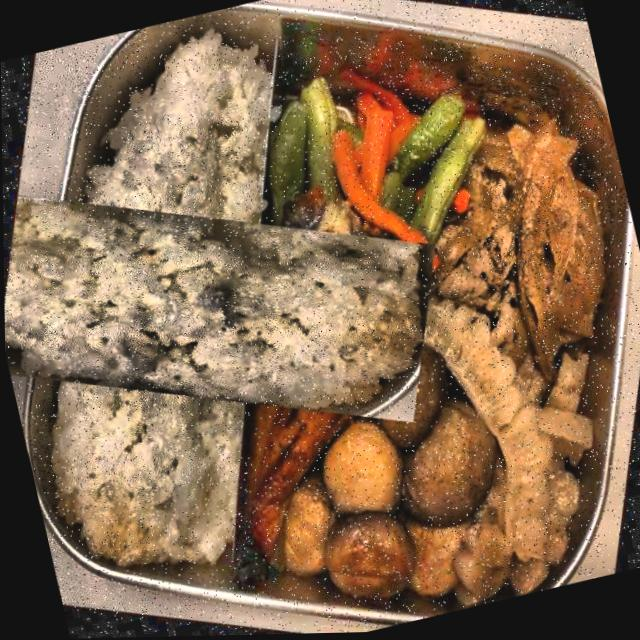Food: (0, 34, 432, 562)
